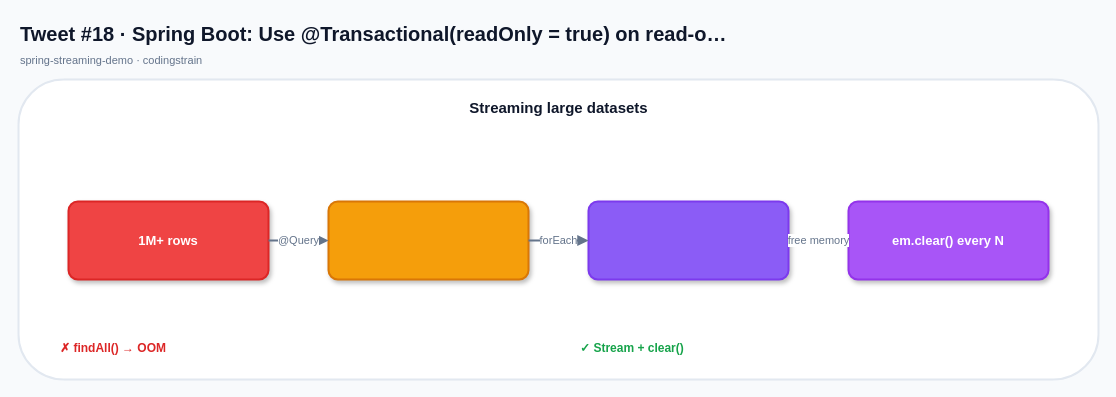
Some shapes in this 1116 by 397 pixel diagram are drawn without their labels. The centre of each missing label's shape, as x and y in pixels:
process(): [689,241]
Stream<User>: [429,241]
